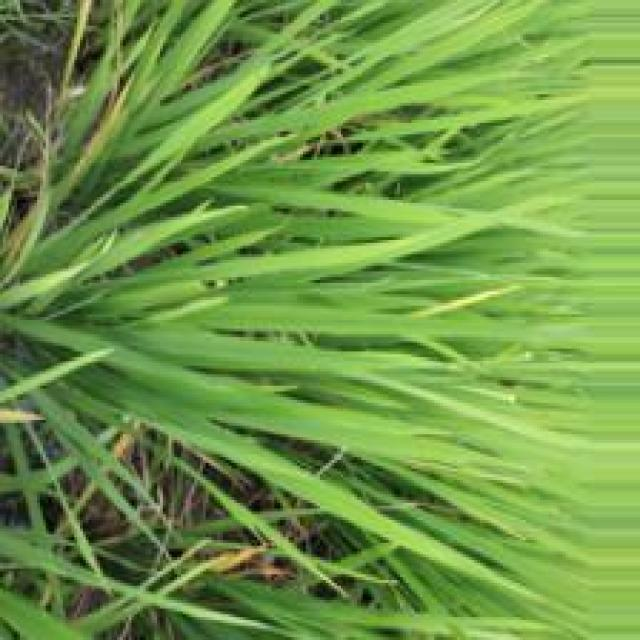HealthyLeaf: (142, 376, 227, 415), (270, 308, 368, 335), (190, 333, 254, 368)
